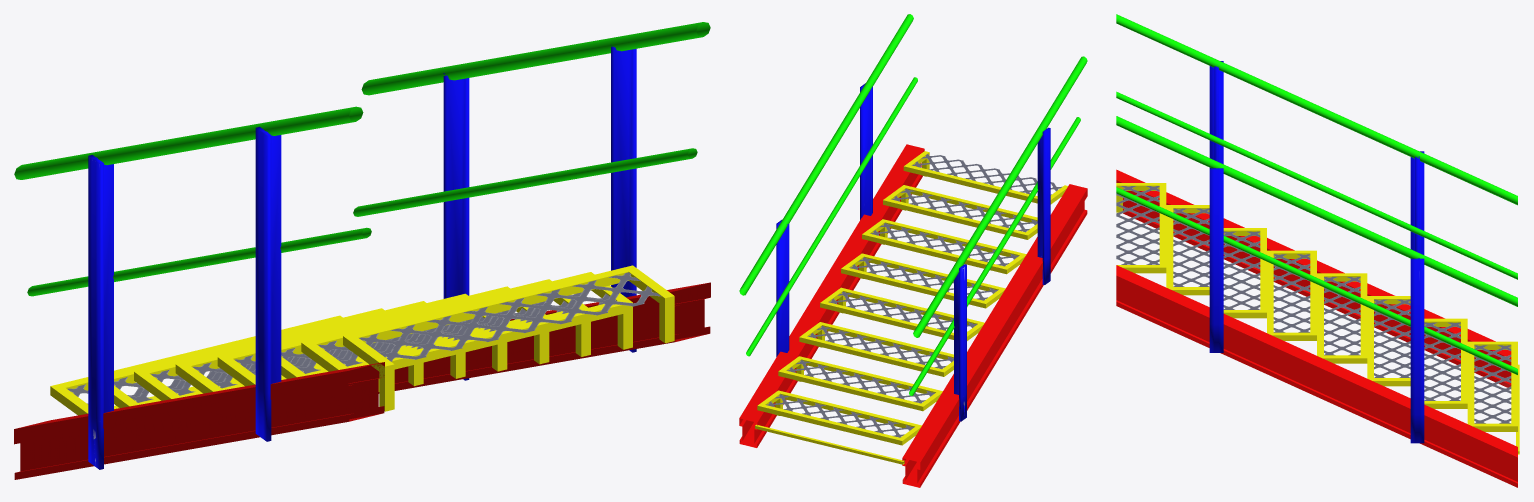
Rendered from PlataformaEscadas.fbx.
3 renders of one model, left to right at view 1: azimuth 30°, elevation 25°; view 2: azimuth 150°, elevation 25°; view 3: azimuth 270°, elevation 25°, orthographic. The views are drawn at different scales.
Parts seen in each view (by area): view 1: PlataformaEscadas; view 2: PlataformaEscadas; view 3: PlataformaEscadas.
Part boxes in pixels (<box>): PlataformaEscadas: <box>14,22,710,479</box>; PlataformaEscadas: <box>739,14,1087,487</box>; PlataformaEscadas: <box>1116,14,1519,487</box>.
Bounding box in the file's own units: 128 × 203 × 201.
